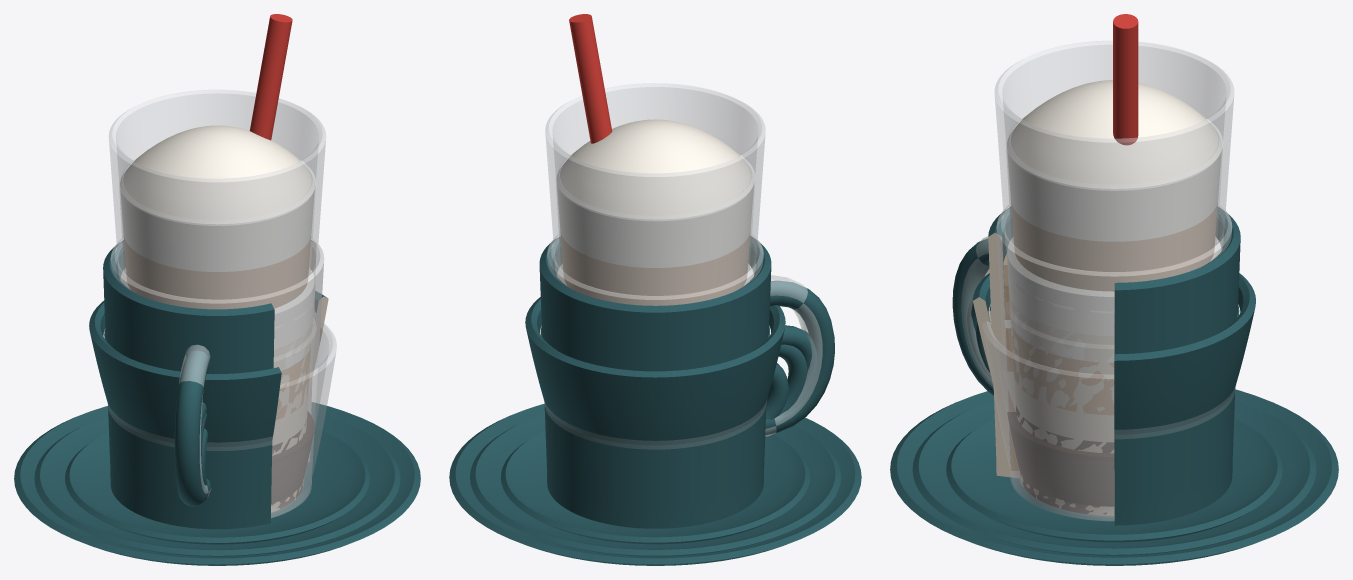
Rendered from coffee-bar.glb.
3 renders of one model, left to right at view 1: azimuth 30°, elevation 25°; view 2: azimuth 150°, elevation 25°; view 3: azimuth 270°, elevation 25°, orthographic. The views are drawn at different scales.
Visible parts, largest first — view 1: ice__cup, americano__cup, ice__cream, latte__cup, cappuccino__cup, espresso__saucer, flat-white__saucer, cappuccino__saucer, hafuch__cup, affogato__cup, ice__slush, mocha__cup (+9 smaller); view 2: americano__cup, ice__cup, ice__cream, cappuccino__cup, latte__cup, flat-white__saucer, espresso__saucer, cappuccino__saucer, ice__slush, americano__handle, ice__straw, hafuch__cup (+7 smaller); view 3: ice__cup, ice__cream, americano__cup, hafuch__cup, latte__cup, affogato__cup, mocha__cup, espresso__saucer, flat-white__saucer, cappuccino__cup, cappuccino__saucer, ice__slush (+12 smaller).
Part boxes in pixels (left/top/right/bottom): ice__cup: left=109, top=90, right=325, bottom=299; americano__cup: left=103, top=240, right=316, bottom=529; ice__cream: left=120, top=125, right=314, bottom=271; latte__cup: left=119, top=159, right=315, bottom=298; cappuccino__cup: left=89, top=291, right=328, bottom=446; espresso__saucer: left=65, top=428, right=369, bottom=544; flat-white__saucer: left=34, top=412, right=400, bottom=556; cappuccino__saucer: left=14, top=402, right=420, bottom=565; hafuch__cup: left=111, top=244, right=323, bottom=517; affogato__cup: left=107, top=321, right=336, bottom=508; ice__slush: left=124, top=238, right=310, bottom=308; mocha__cup: left=111, top=244, right=323, bottom=517; americano__cup: left=539, top=236, right=771, bottom=528; ice__cup: left=545, top=83, right=765, bottom=295; ice__cream: left=557, top=119, right=753, bottom=267; cappuccino__cup: left=525, top=297, right=785, bottom=445; latte__cup: left=556, top=154, right=754, bottom=295; flat-white__saucer: left=470, top=414, right=840, bottom=556; espresso__saucer: left=501, top=431, right=809, bottom=544; cappuccino__saucer: left=449, top=403, right=861, bottom=565; ice__slush: left=561, top=234, right=749, bottom=305; americano__handle: left=765, top=280, right=834, bottom=434; ice__straw: left=569, top=14, right=612, bottom=143; hafuch__cup: left=547, top=240, right=763, bottom=305; ice__cup: left=994, top=41, right=1234, bottom=271; ice__cream: left=1007, top=80, right=1221, bottom=241; americano__cup: left=988, top=207, right=1240, bottom=525; hafuch__cup: left=997, top=211, right=1231, bottom=520; latte__cup: left=1006, top=118, right=1222, bottom=271; affogato__cup: left=983, top=321, right=1235, bottom=510; mocha__cup: left=997, top=211, right=1231, bottom=520; espresso__saucer: left=946, top=419, right=1282, bottom=542; flat-white__saucer: left=912, top=400, right=1316, bottom=555; cappuccino__cup: left=973, top=273, right=1255, bottom=468; cappuccino__saucer: left=890, top=389, right=1338, bottom=565; ice__slush: left=1011, top=203, right=1217, bottom=291.
Size of the model in its own units: 0.16 by 0.2012 by 0.16.
